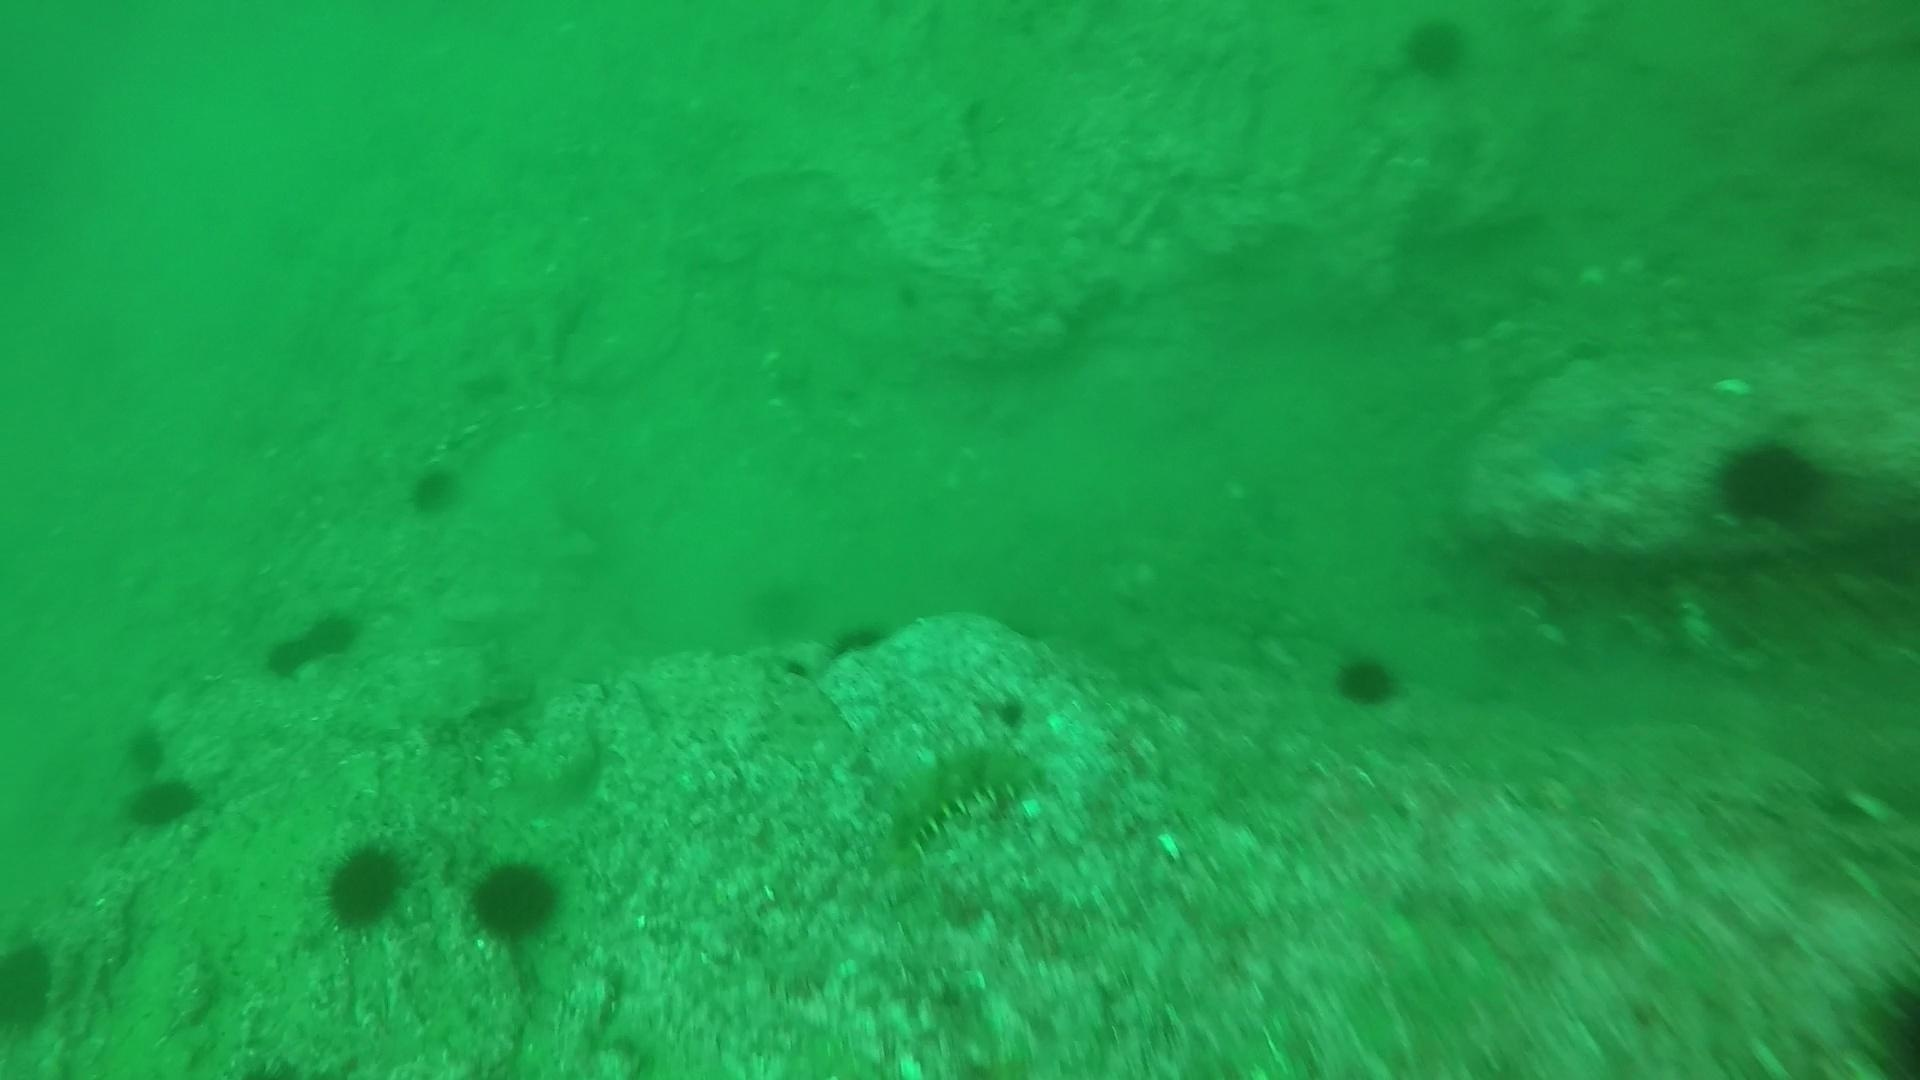echinus: (1708, 433, 1829, 529), (462, 852, 568, 948), (316, 835, 414, 935), (1, 928, 62, 1040), (1395, 13, 1477, 84), (120, 767, 204, 835), (1328, 645, 1406, 712), (402, 458, 468, 520), (303, 603, 367, 663), (261, 624, 324, 684), (823, 615, 893, 665), (117, 719, 174, 778)
holothurian: (872, 727, 1043, 862)
starfish: (1519, 396, 1648, 481)
